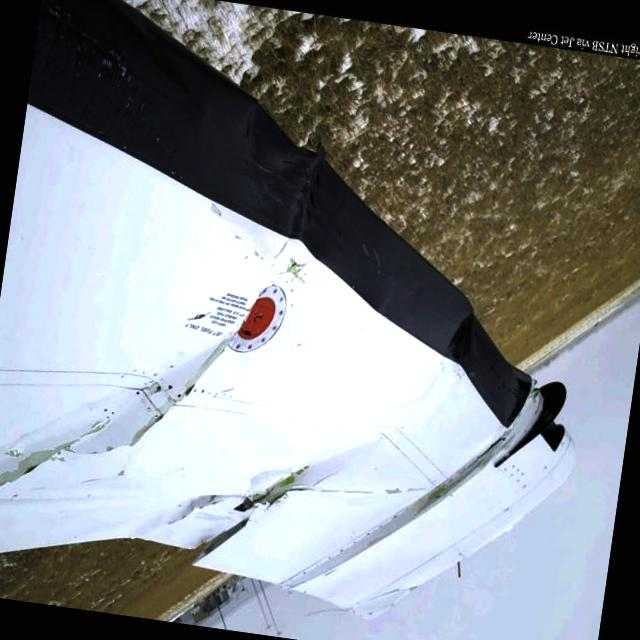crack: (129, 325, 237, 462), (0, 401, 103, 516), (224, 451, 314, 527)
dent: (313, 305, 466, 482)
